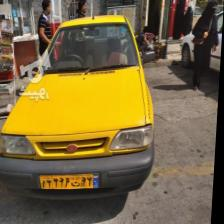plate: (41, 175, 103, 191)
